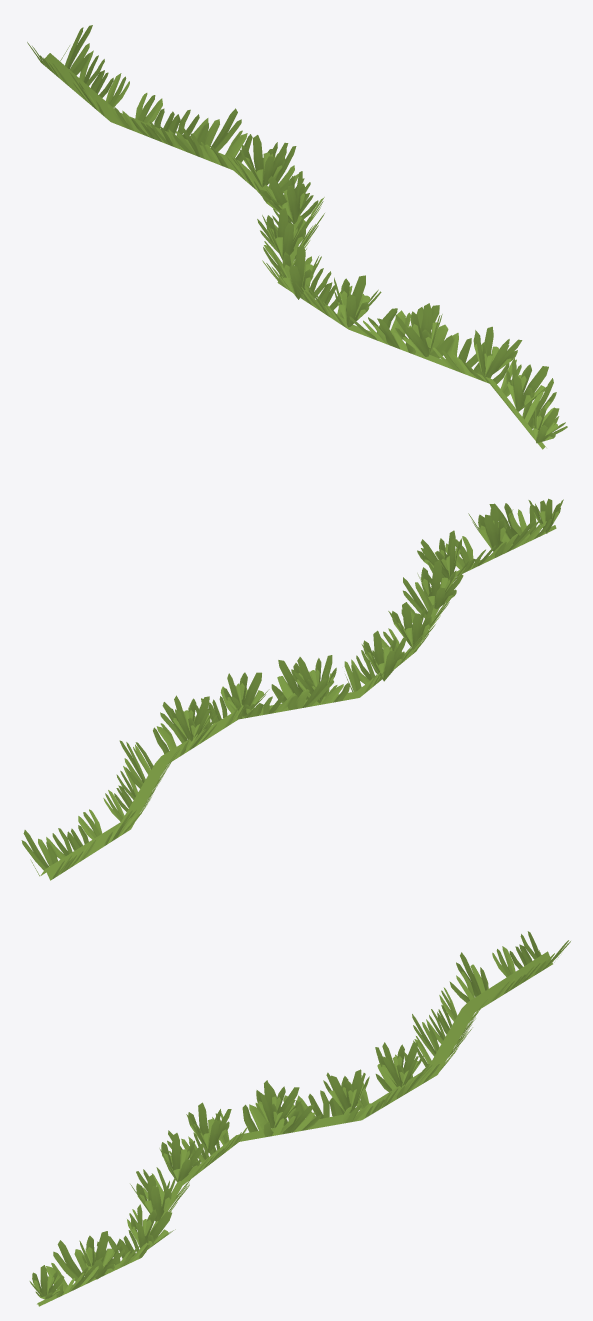
Rendered from SM_Env_Creeper_Vine_01.fbx.
3 renders of one model, top to bottom at view 1: azimuth 30°, elevation 25°; view 2: azimuth 150°, elevation 25°; view 3: azimuth 330°, elevation 25°, orthographic. The views are drawn at different scales.
Visible parts, largest first — view 1: SM_Env_Creeper_Vine_01; view 2: SM_Env_Creeper_Vine_01; view 3: SM_Env_Creeper_Vine_01.
Part boxes in pixels (x1,y1,x2,y2): SM_Env_Creeper_Vine_01: (27,25,567,449); SM_Env_Creeper_Vine_01: (21,498,563,880); SM_Env_Creeper_Vine_01: (29,931,570,1306).
Size of the model in its own units: 49.6 by 17.51 by 294.
